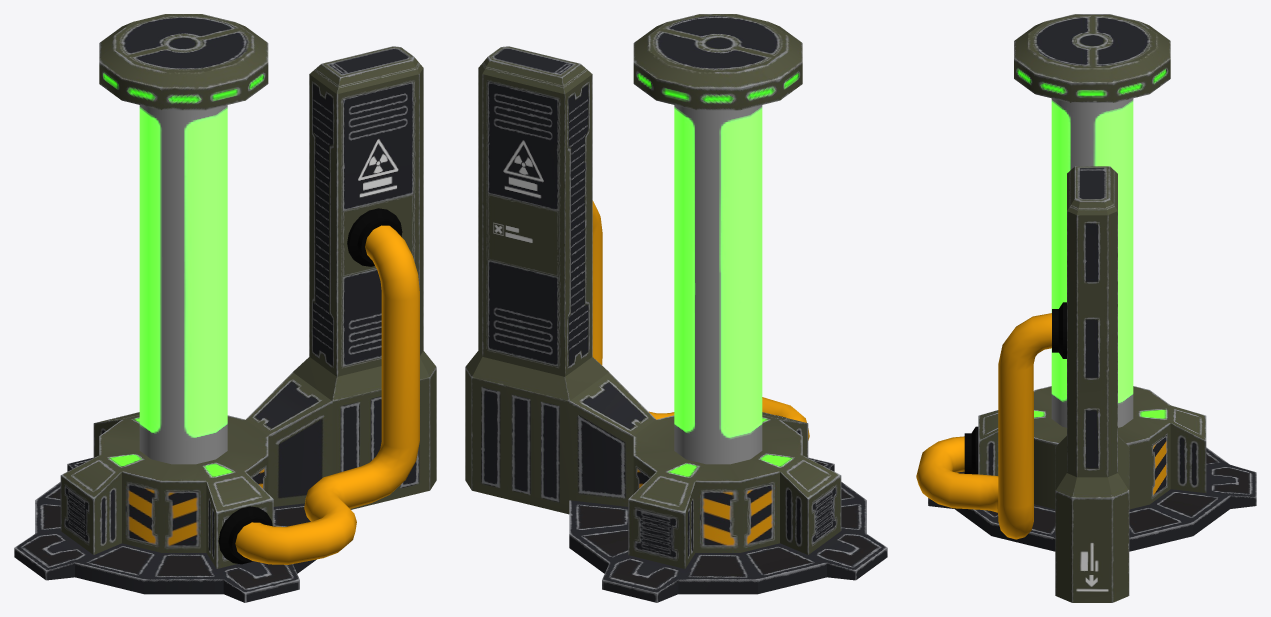
File: rts_energy_generator.glb
The picture shows the model from 3 angles, left to right: view 1: azimuth 30°, elevation 25°; view 2: azimuth 150°, elevation 25°; view 3: azimuth 270°, elevation 25°; orthographic projection. The views are drawn at different scales.
Parts seen in each view (by area): view 1: energy_box; view 2: energy_box; view 3: energy_box.
Boxes of the visible parts, x1,y1,x2,y2 form: energy_box: (14, 14, 436, 602); energy_box: (465, 14, 887, 602); energy_box: (916, 14, 1256, 602).
Size of what is drawn, in the model's own units: 821 by 968 by 661.
1 material, 1 textured.
